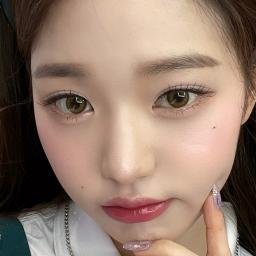face: (32, 0, 238, 238)
